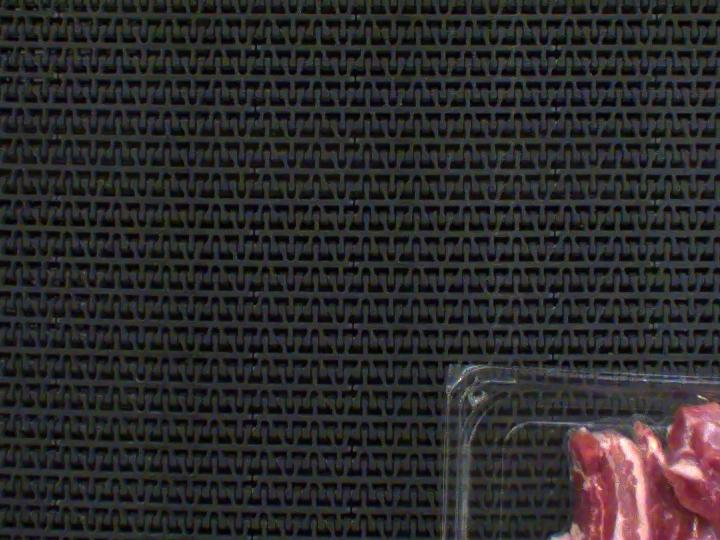packaging-error: (678, 382, 720, 423)
unsealed: (563, 385, 720, 493)
